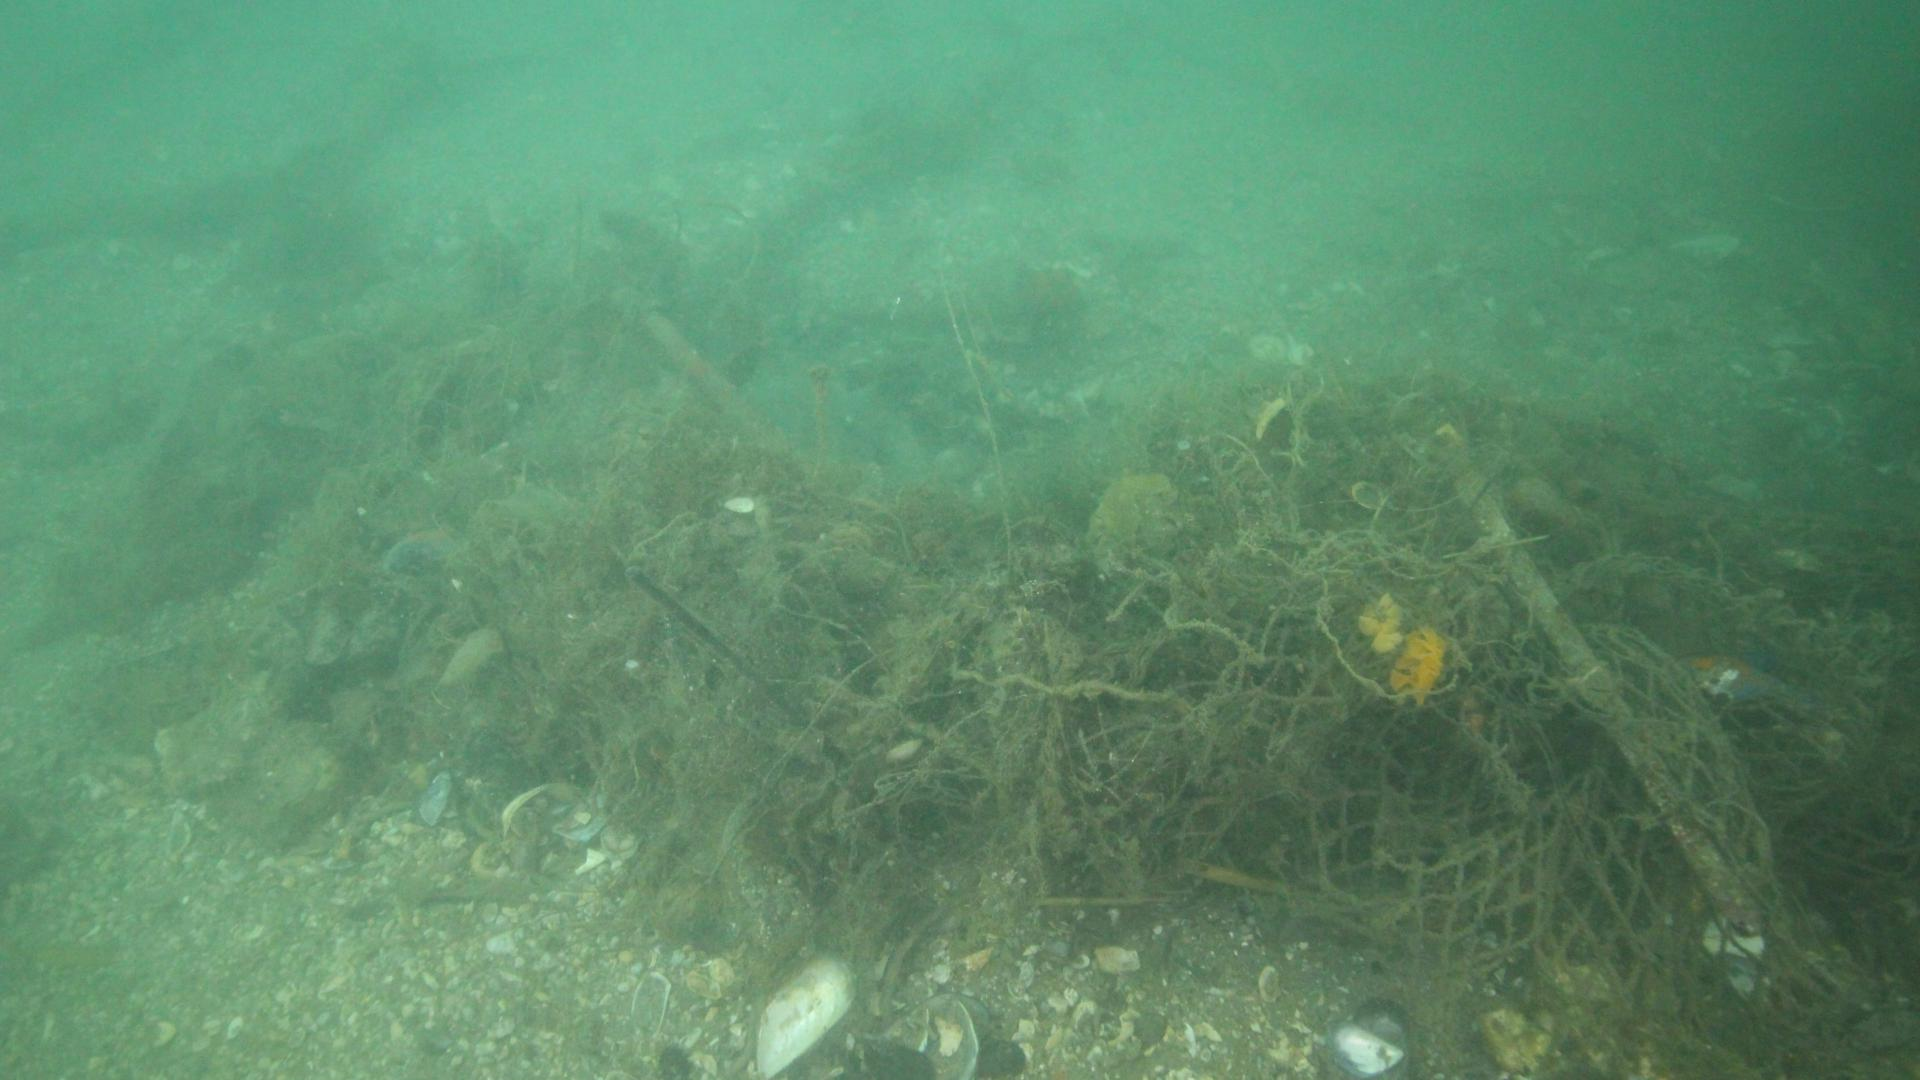fish net: (1176, 622, 1920, 1080)
